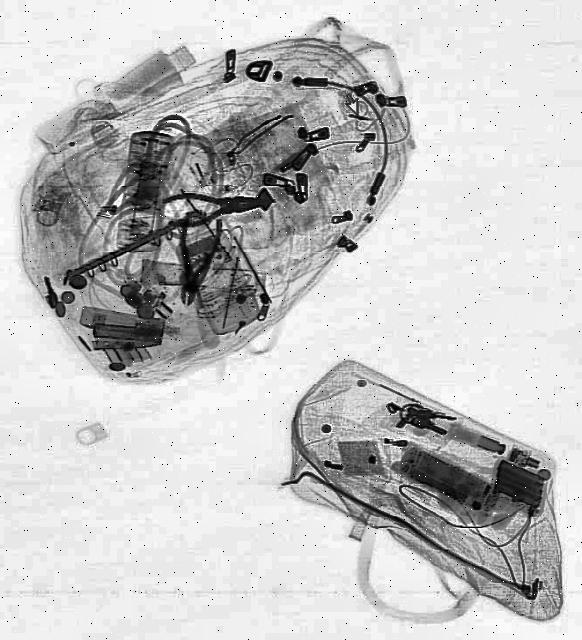Pliers: (169, 212, 225, 310), (162, 188, 274, 230)
